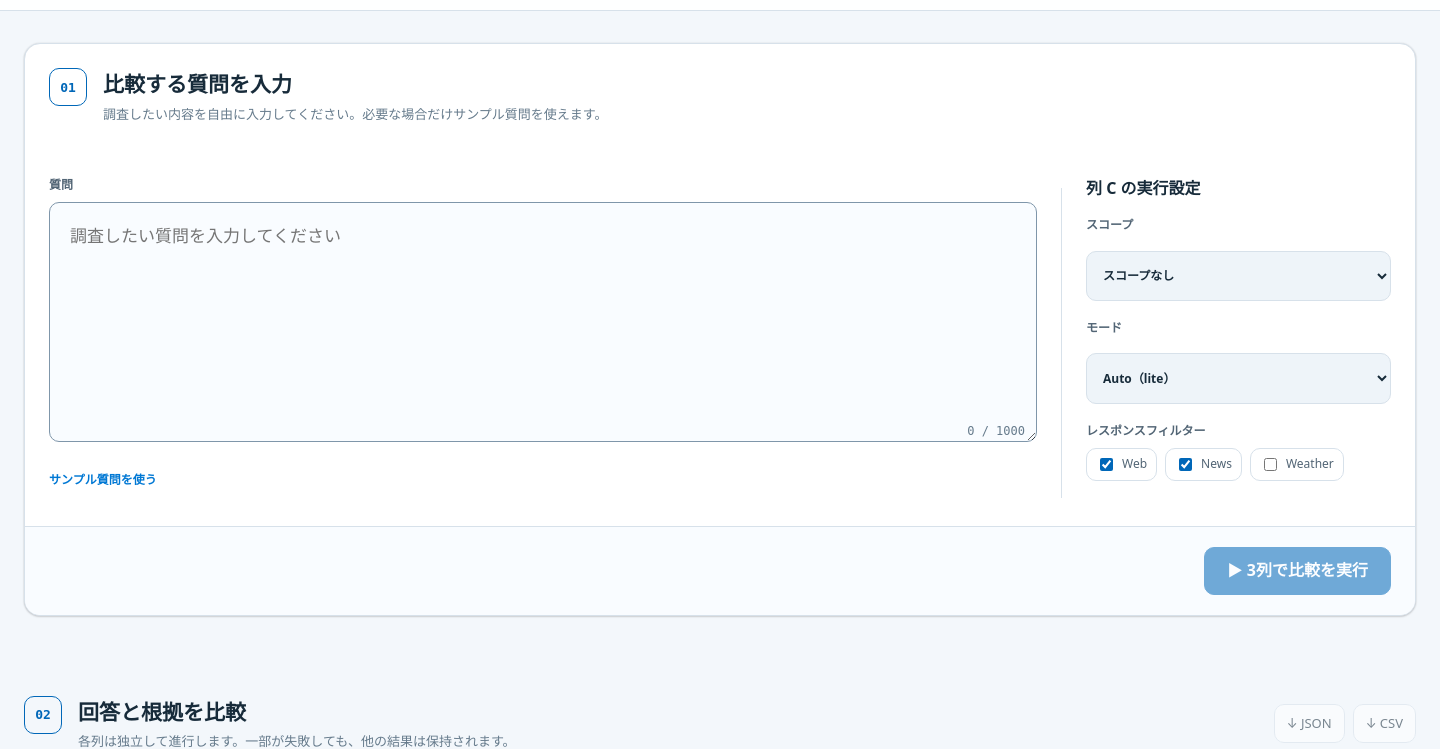
Test: comparison form › starts with free entry and offers five optional sample questions
expect the text box labelled "質問" is empty: met, box 49,202 -> 1037,442
Click the heading "サンプル質問を使う" at (103,480), box 49,471 -> 157,488
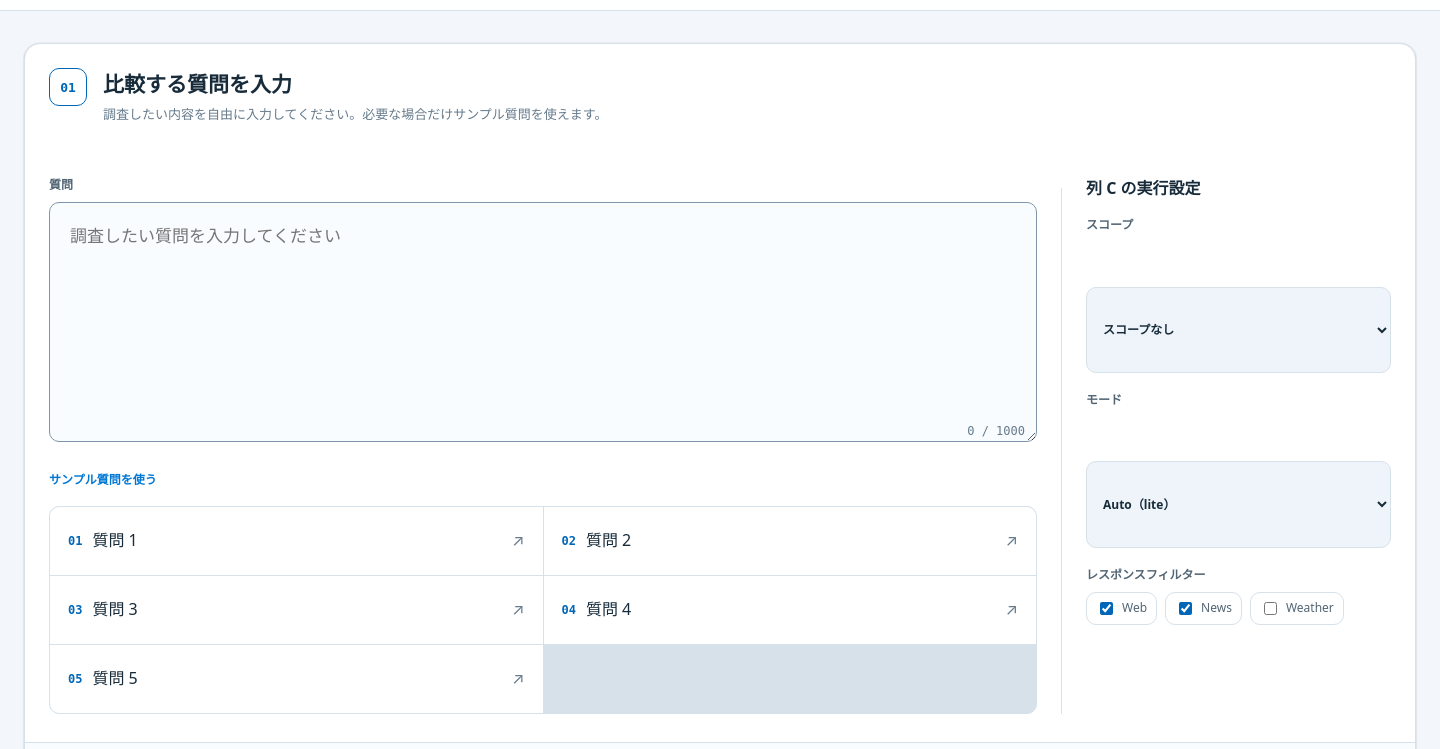
expect the button "05 質問 5 ↗" is shown: met, box 50,645 -> 542,713
Click the button "04 質問 4 ↗" at (609,609), box 544,576 -> 1036,644
(page scrolled)
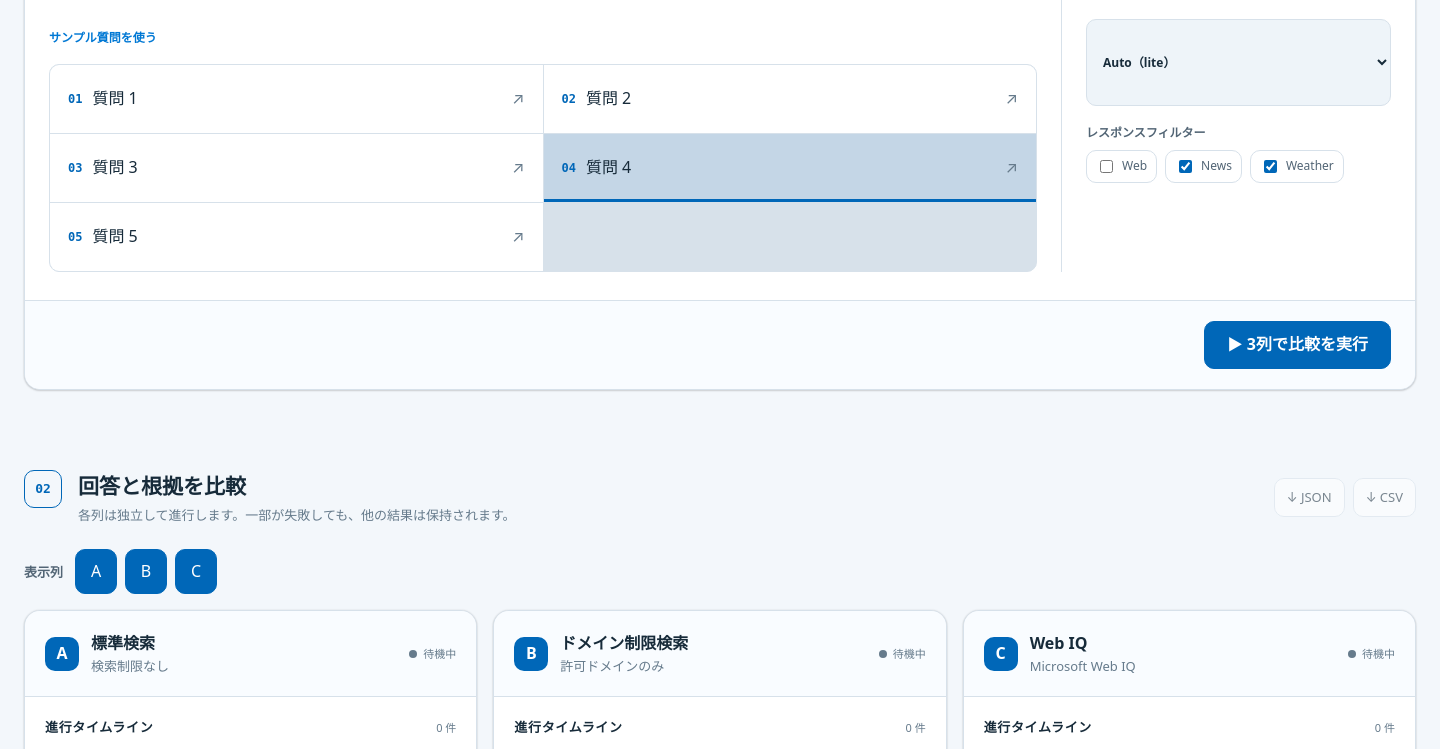
expect the checkbox labelled "Weather" is checked: met, box 1264,160 -> 1277,172
expect the button "▶ 3列で比較を実行" is enabled: met, box 1204,321 -> 1391,369
